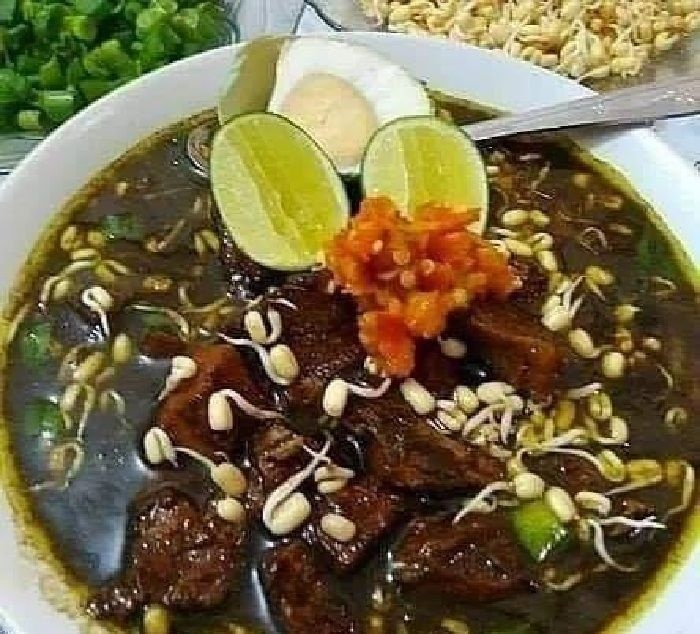rawon: (21, 63, 655, 616)
